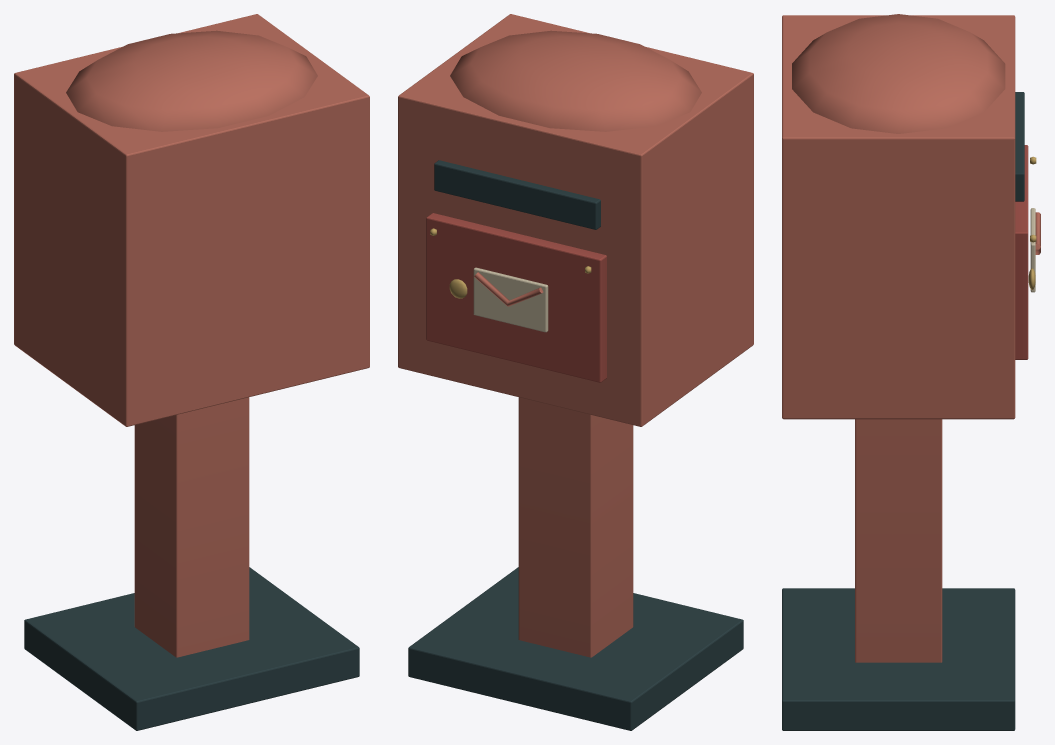
The model's file is mailbox.glb.
3 renders of one model, left to right at view 1: azimuth 30°, elevation 25°; view 2: azimuth 150°, elevation 25°; view 3: azimuth 270°, elevation 25°, orthographic. The views are drawn at different scales.
Size of the model in its own units: 0.6 by 1.43 by 0.533.
